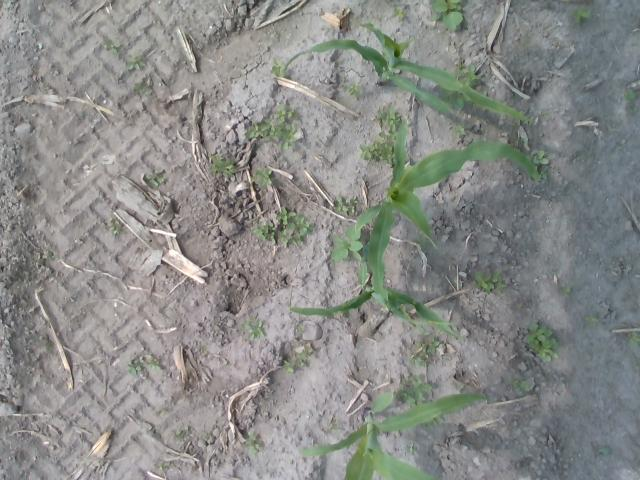Maize: (347, 118, 540, 343), (282, 22, 528, 120), (288, 244, 467, 340), (299, 390, 489, 480)
Weeds: (359, 106, 409, 166), (250, 205, 313, 249), (246, 103, 302, 149), (524, 322, 560, 362), (394, 373, 432, 406), (409, 328, 440, 368), (332, 226, 362, 260), (430, 0, 464, 30), (448, 60, 481, 88), (474, 266, 506, 294), (280, 346, 312, 374), (438, 84, 472, 110), (524, 149, 550, 180), (124, 356, 162, 376), (209, 152, 236, 178), (238, 314, 264, 338), (334, 195, 358, 215), (504, 374, 530, 392), (340, 76, 361, 97), (242, 430, 260, 454), (569, 6, 592, 24), (132, 80, 152, 99), (251, 168, 272, 186), (144, 168, 164, 186), (268, 56, 284, 78), (410, 232, 430, 249), (106, 217, 125, 234), (126, 53, 144, 70), (102, 39, 121, 55), (422, 415, 442, 430), (625, 330, 640, 348), (453, 121, 467, 138), (173, 426, 189, 439), (621, 88, 638, 100), (405, 442, 419, 456), (584, 314, 598, 326), (558, 284, 572, 296), (155, 460, 170, 471), (392, 7, 404, 20), (596, 446, 610, 455), (295, 321, 305, 333), (197, 344, 207, 355), (42, 251, 54, 260), (329, 419, 338, 431), (517, 136, 527, 146), (633, 358, 640, 372), (512, 118, 520, 126), (204, 432, 212, 439), (540, 110, 548, 116), (46, 342, 52, 346), (2, 0, 10, 3)
